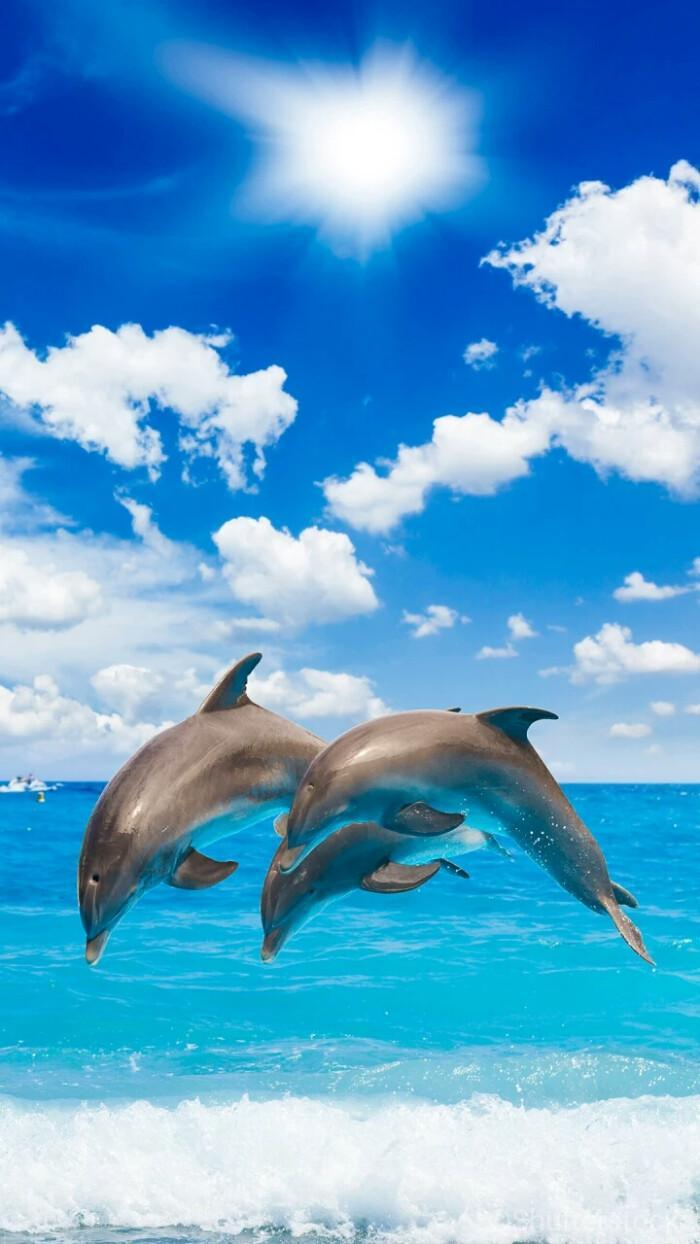fish: (231, 706, 668, 964), (70, 647, 395, 974)
